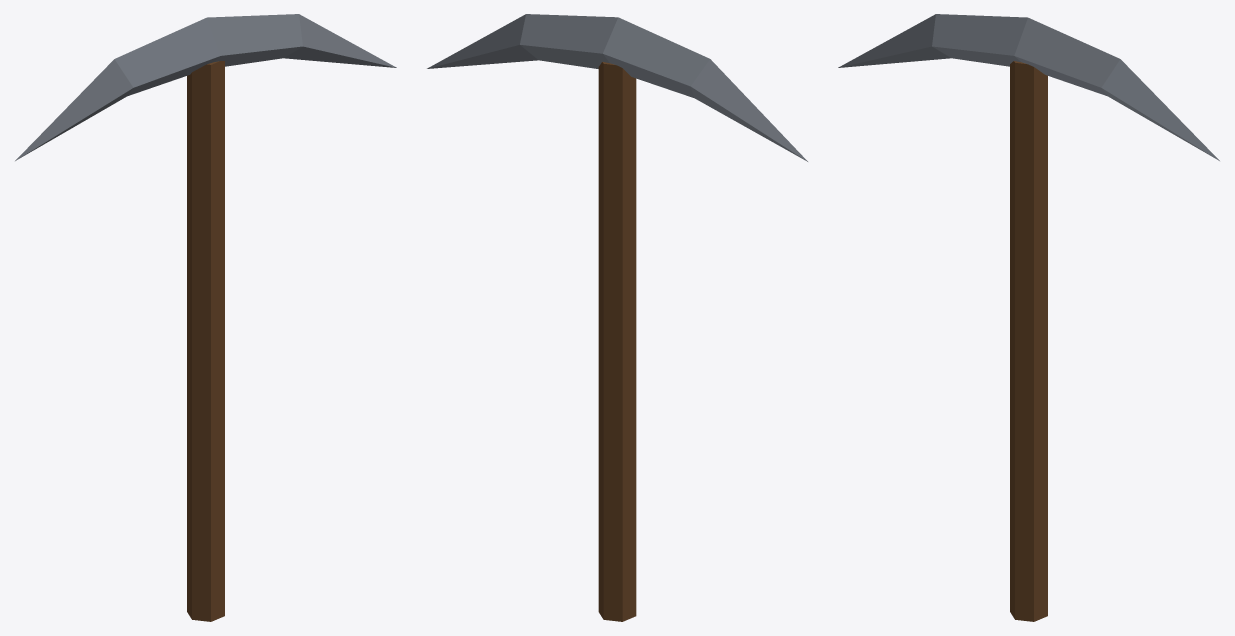
File: tool_pickaxe.glb
The picture shows the model from 3 angles, left to right: view 1: azimuth 30°, elevation 25°; view 2: azimuth 150°, elevation 25°; view 3: azimuth 330°, elevation 25°; orthographic projection.
Visible parts, largest first — view 1: tool_pickaxe; view 2: tool_pickaxe; view 3: tool_pickaxe.
Part boxes in pixels (<box>): tool_pickaxe: <box>15,14,396,621</box>; tool_pickaxe: <box>427,14,807,621</box>; tool_pickaxe: <box>838,14,1219,621</box>.
Bounding box in the file's own units: 0.54 × 0.8039 × 0.0719.
